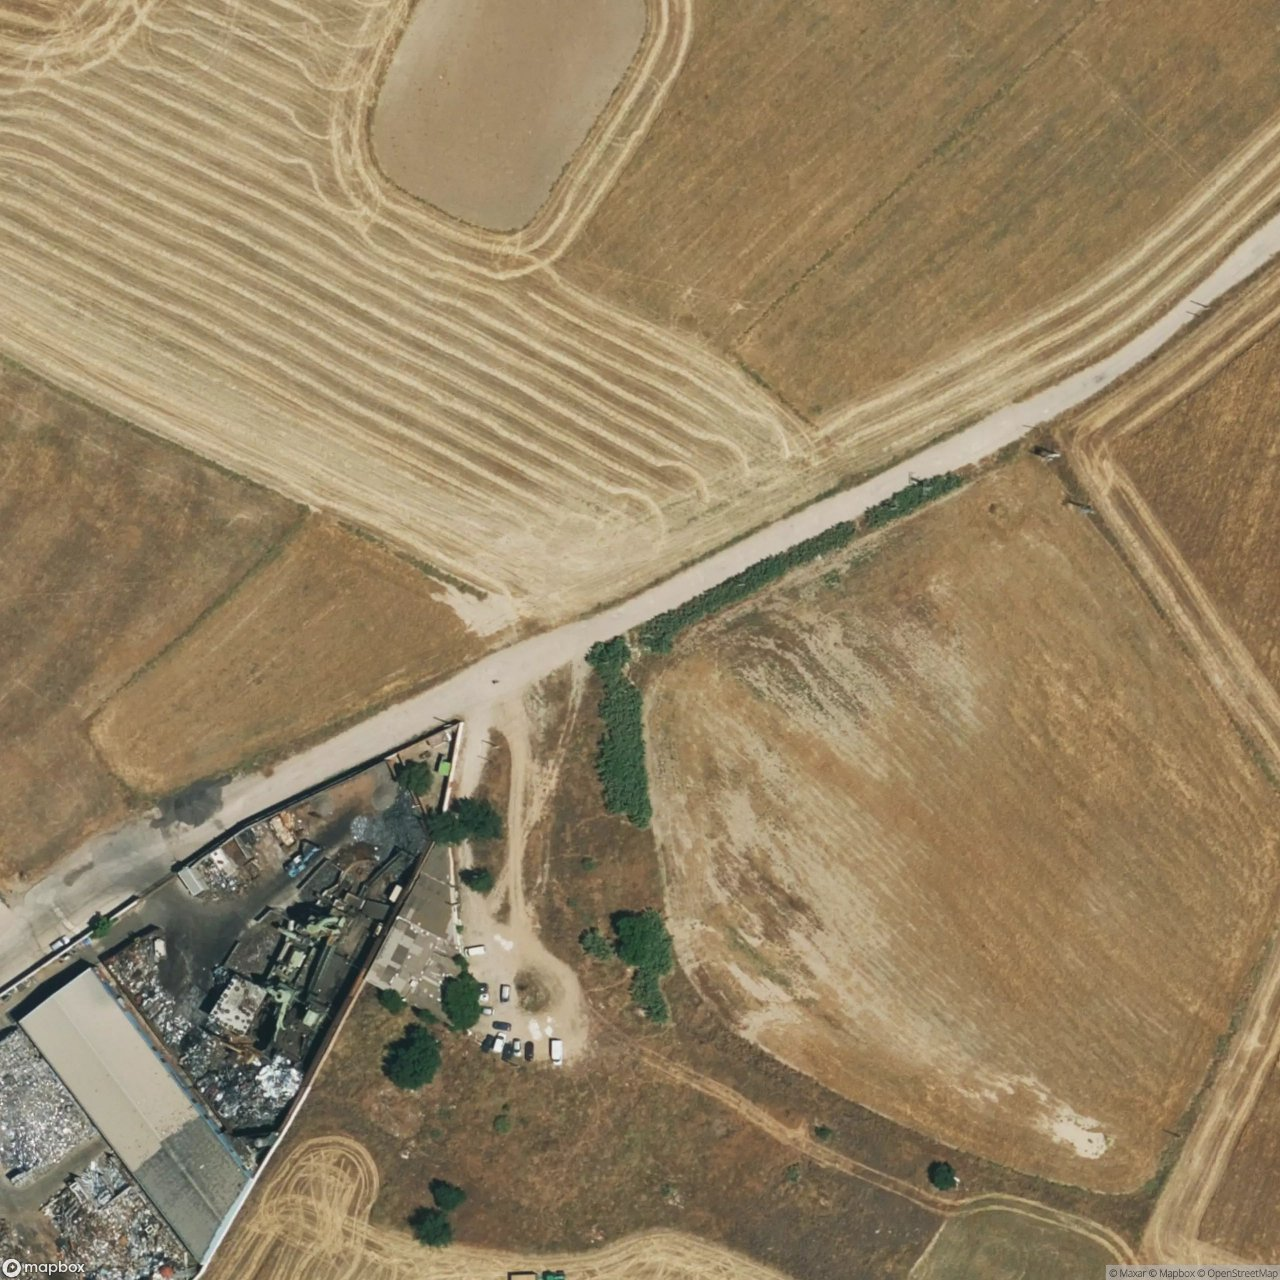dump_site: (21, 1162, 190, 1280), (0, 1027, 94, 1190)
